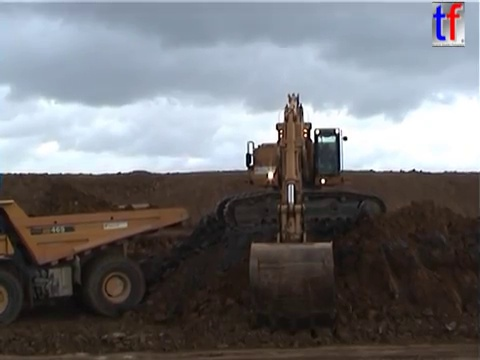excavator: (211, 90, 388, 336)
truck: (1, 196, 190, 327)
